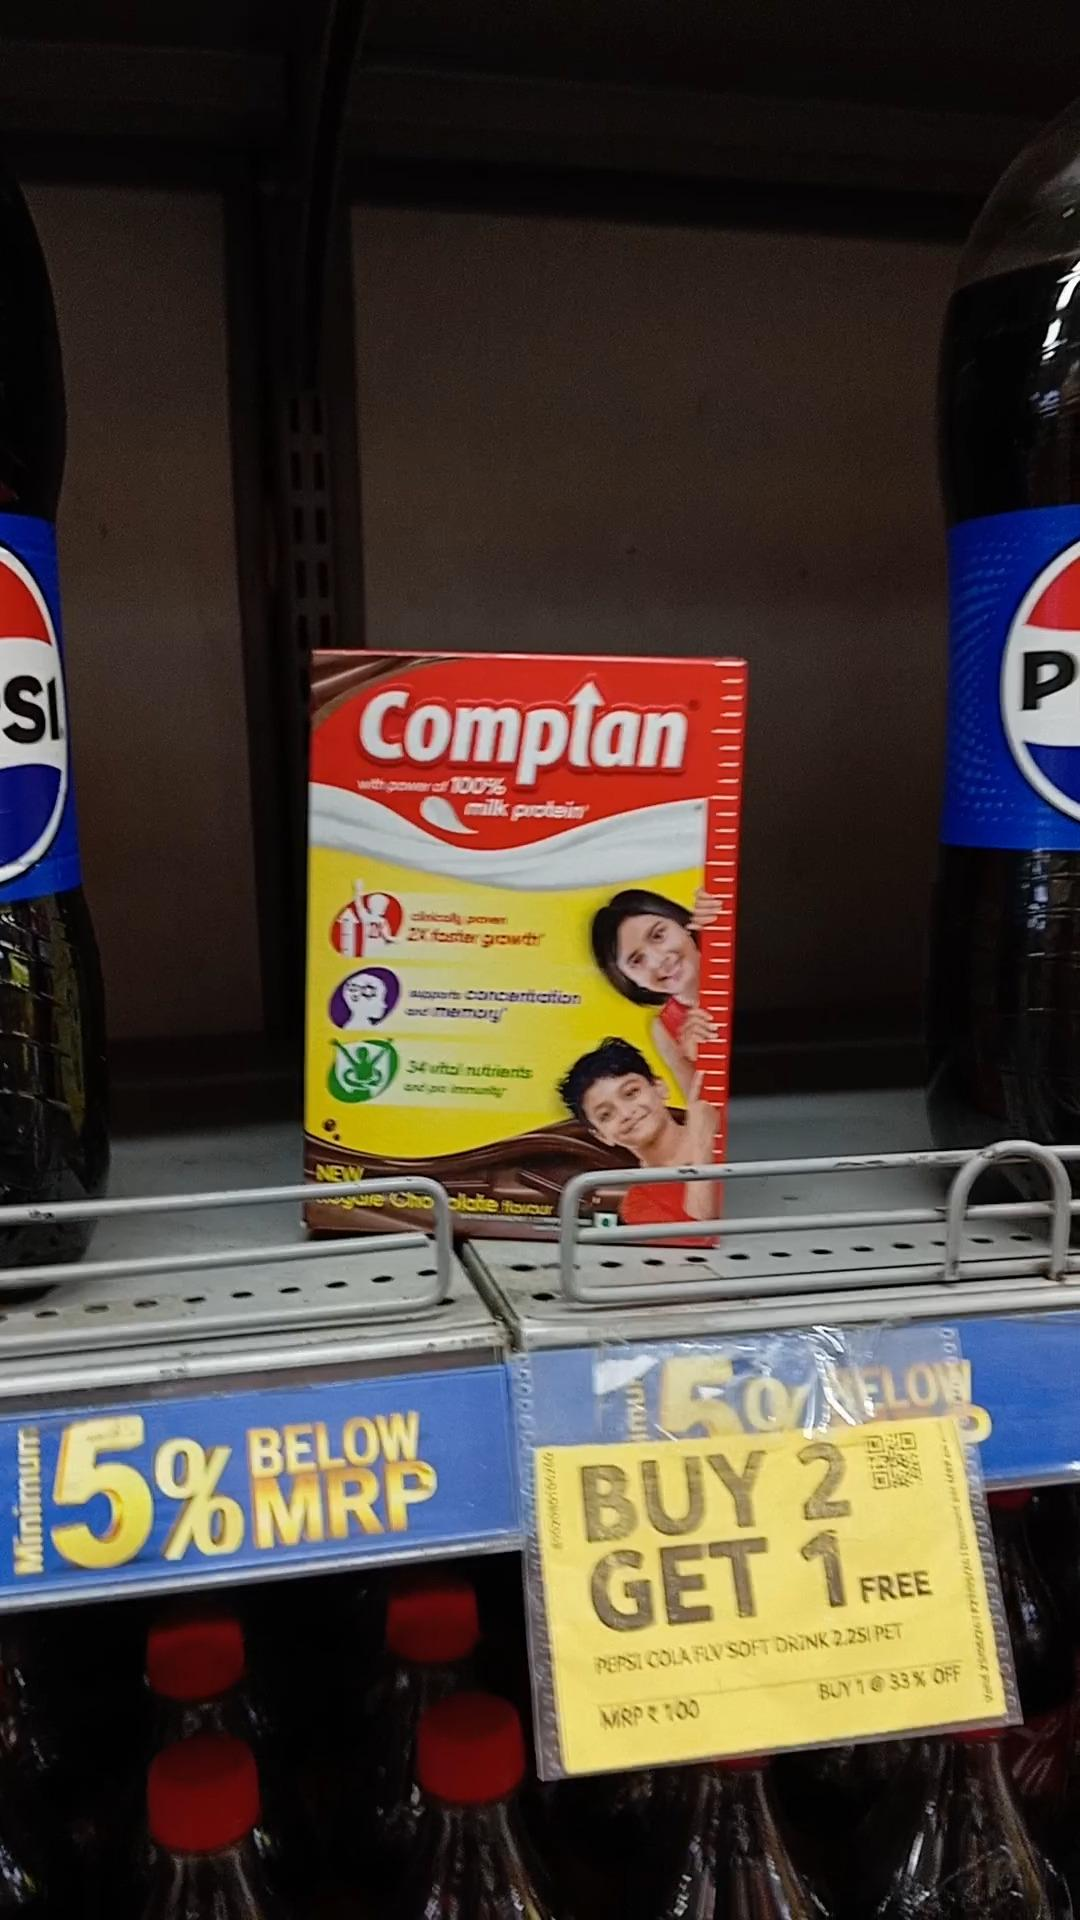COMPLAN_CHOCOLATE_200_GMS_PACK: (305, 636, 731, 1245)
